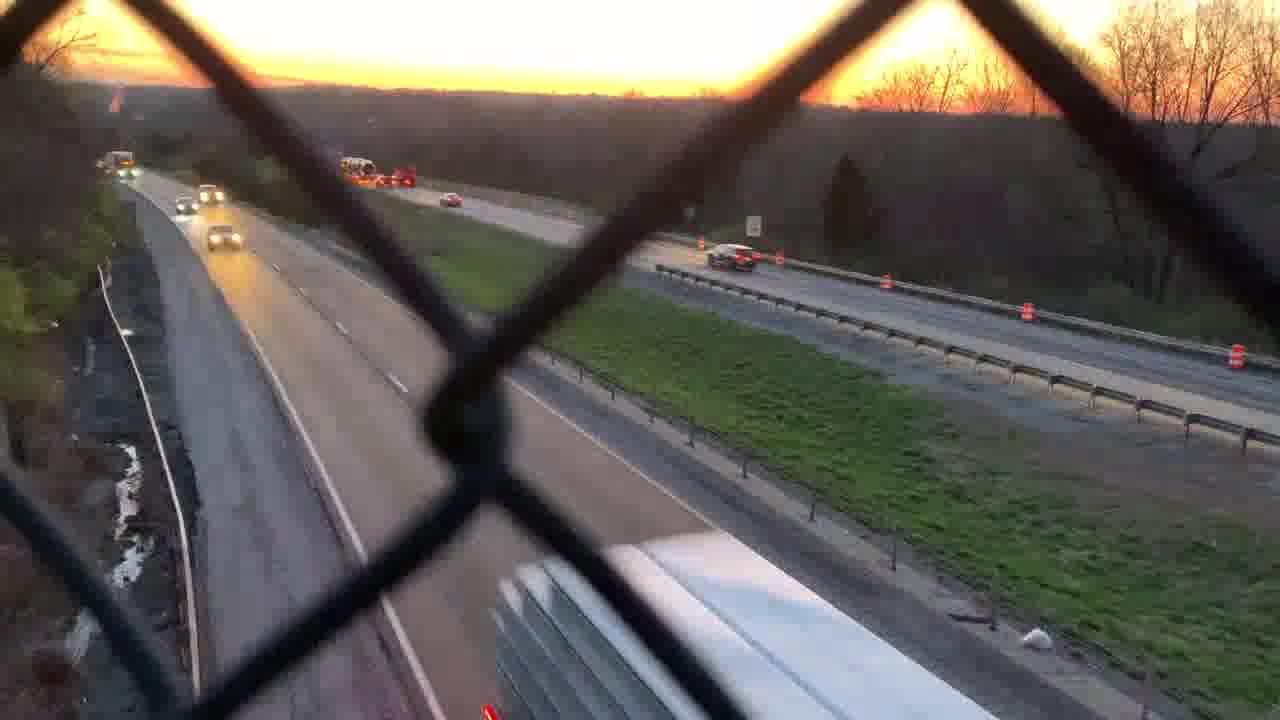largeCar: (704, 242, 756, 275)
